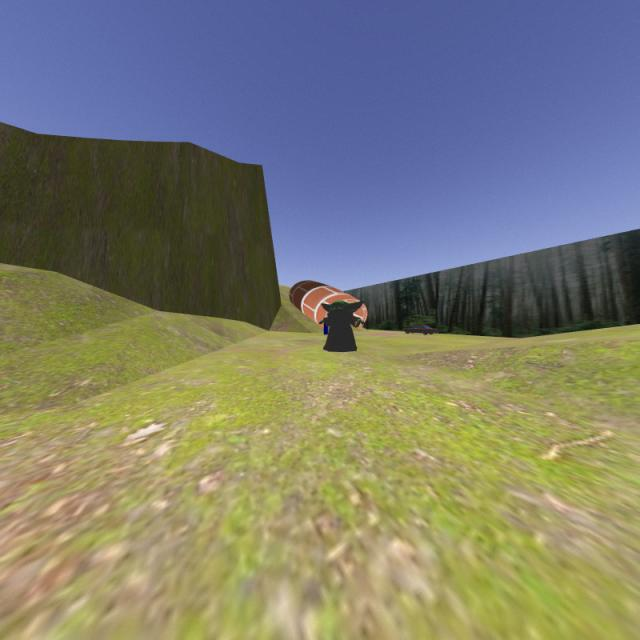yoda: (316, 297, 370, 356)
